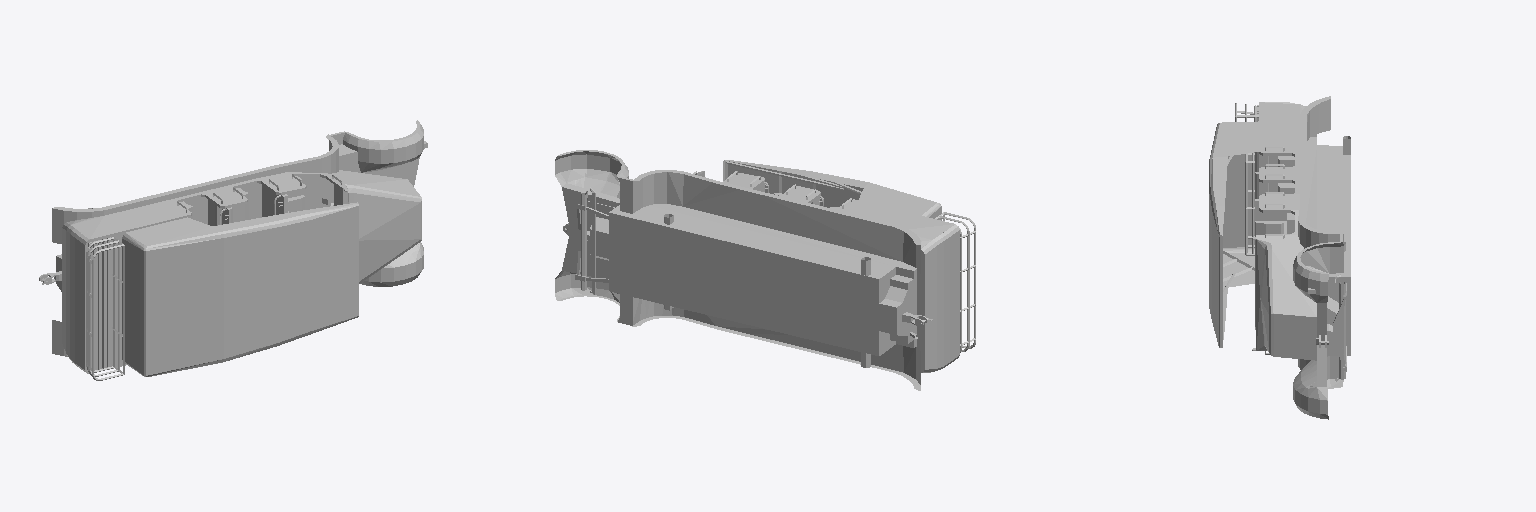
The model's file is body.acii.OBJ.
3 renders of one model, left to right at view 1: azimuth 30°, elevation 25°; view 2: azimuth 150°, elevation 25°; view 3: azimuth 270°, elevation 25°, orthographic.
Size of the model in its own units: 6.71 by 2.47 by 2.19.